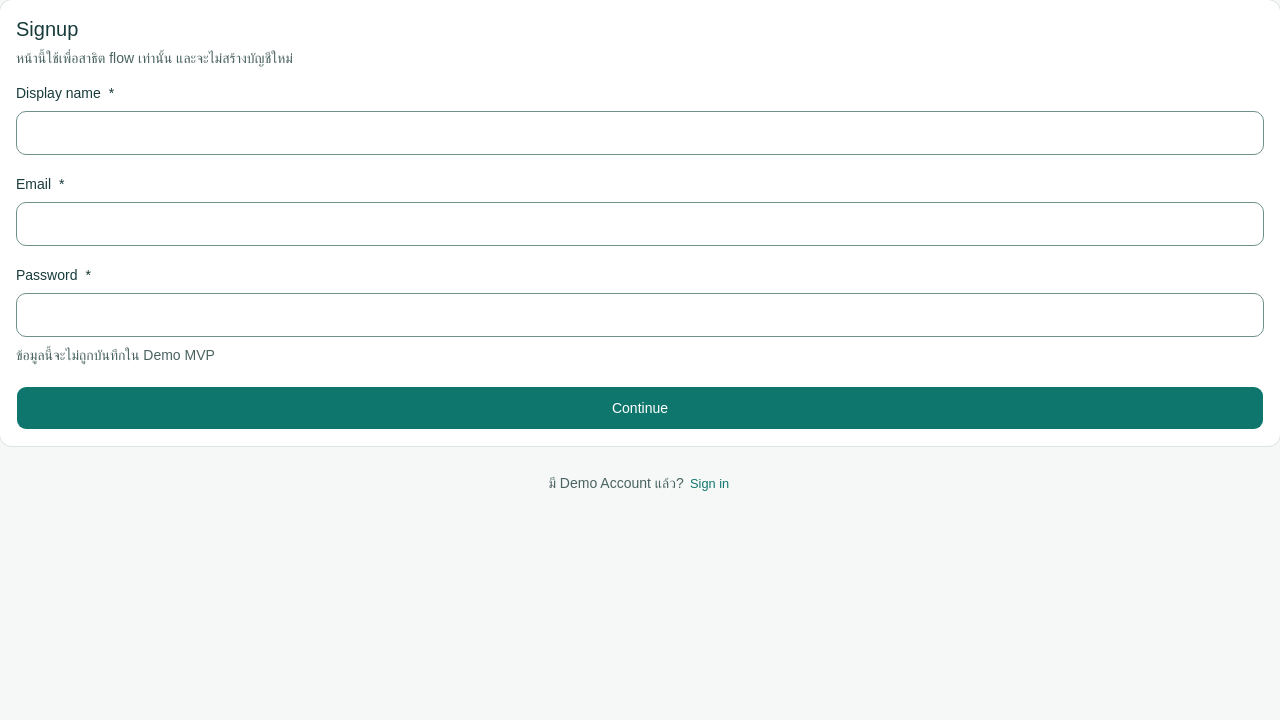
Test: public auth screens › keeps signup demo-only and displays the exact MVP notice
Type "Demo User" into the field labelled "Display name *" at coordinates (640, 133), box [16, 111, 1264, 155]
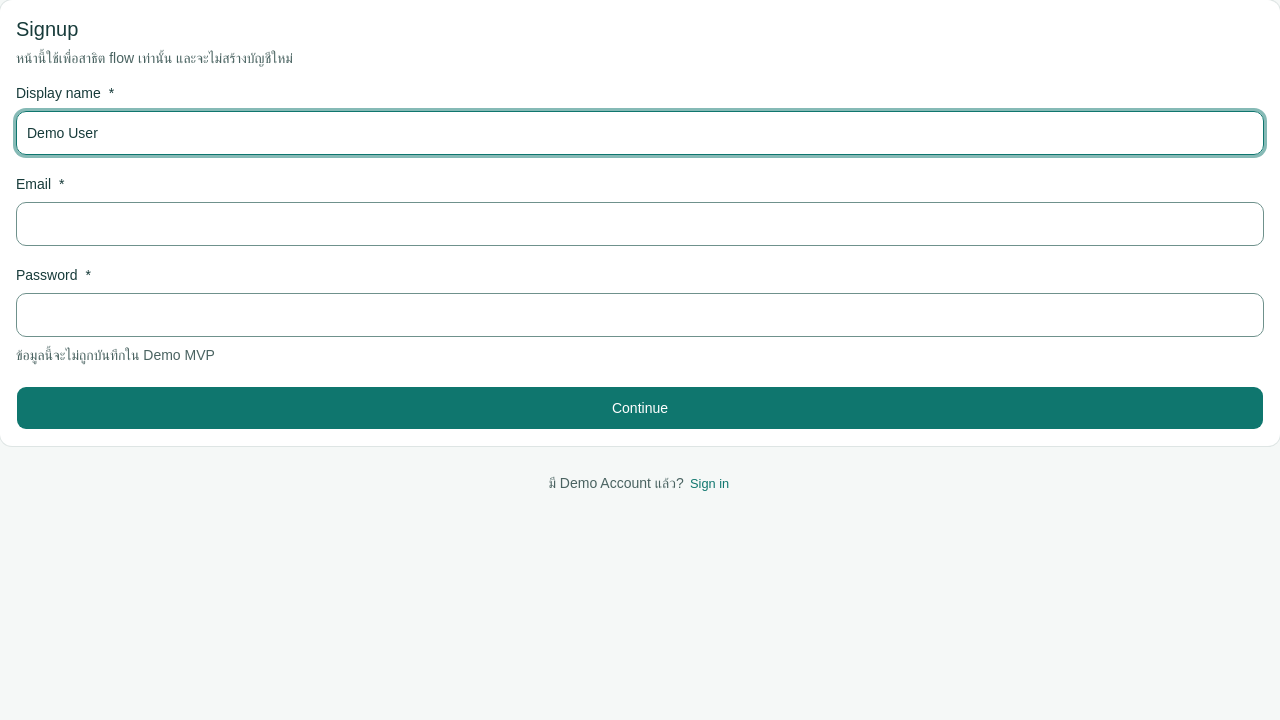
Type "new-user@cliniccloud.demo" into the field labelled "Email *" at coordinates (640, 224), box [16, 202, 1264, 246]
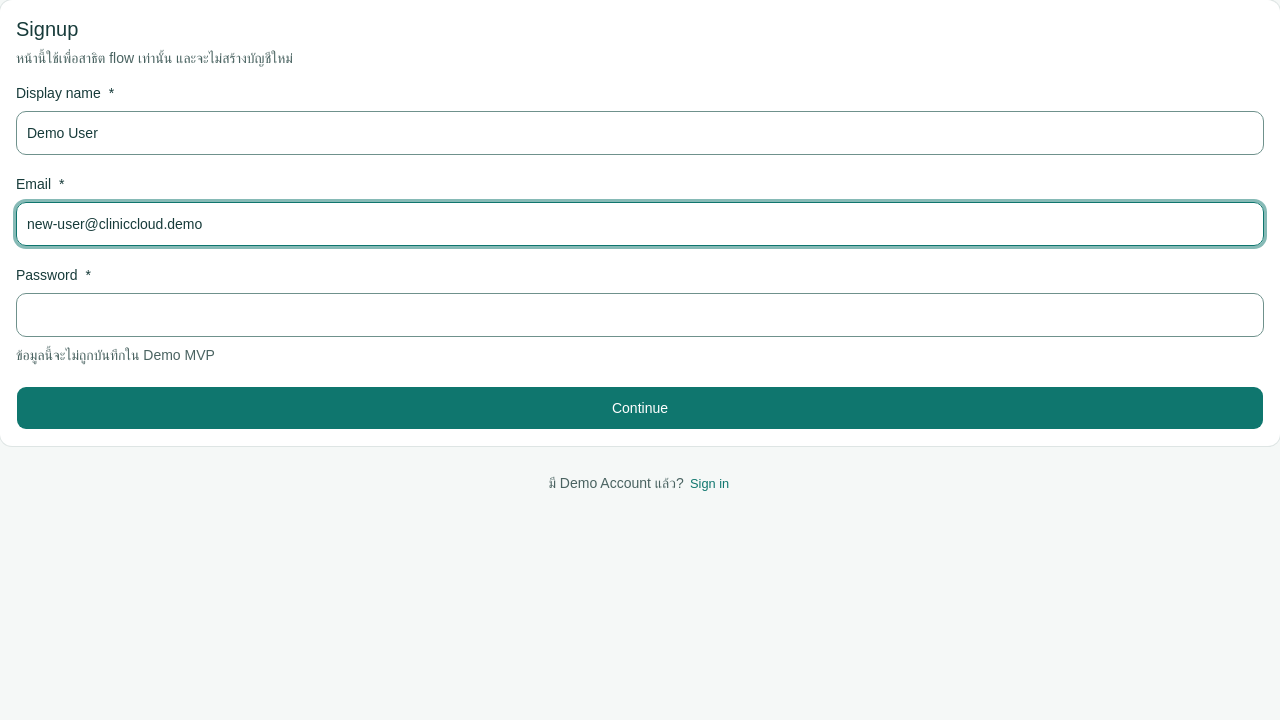
Type "example-password" into the password field labelled "Password *" at coordinates (640, 315), box [16, 293, 1264, 337]
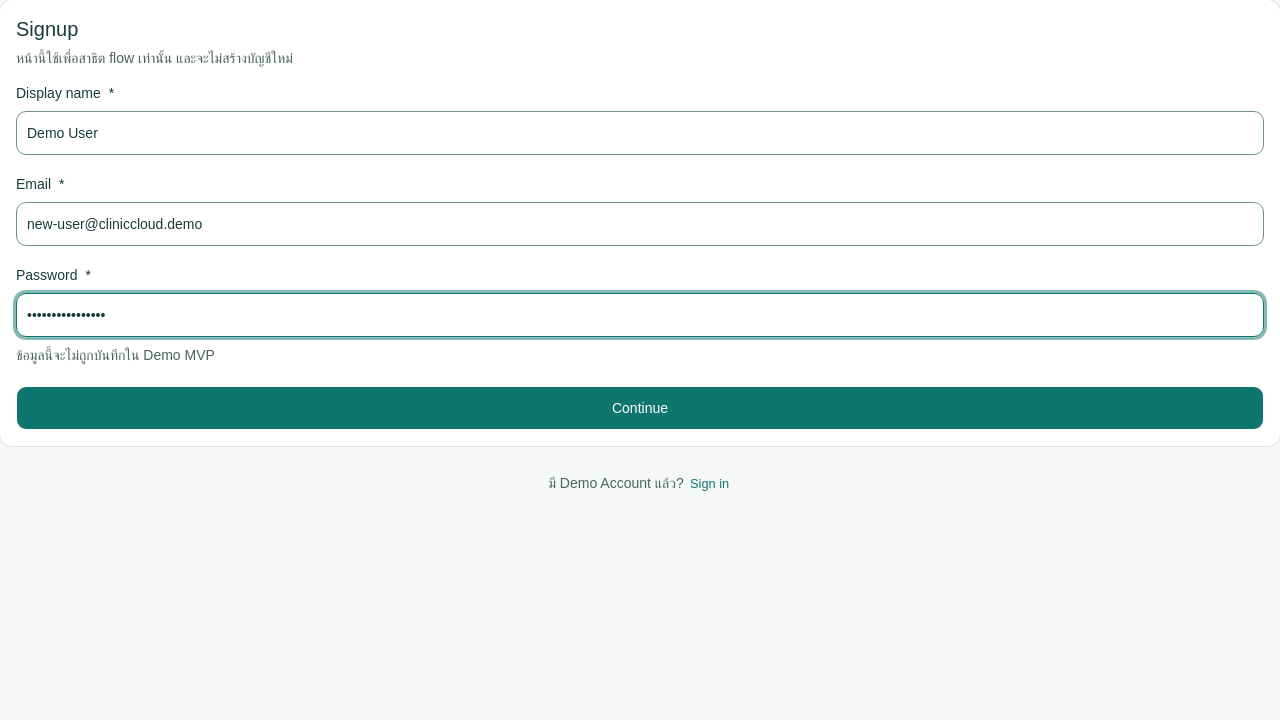
Click the button "Continue" at coordinates (640, 408), box [16, 386, 1264, 430]
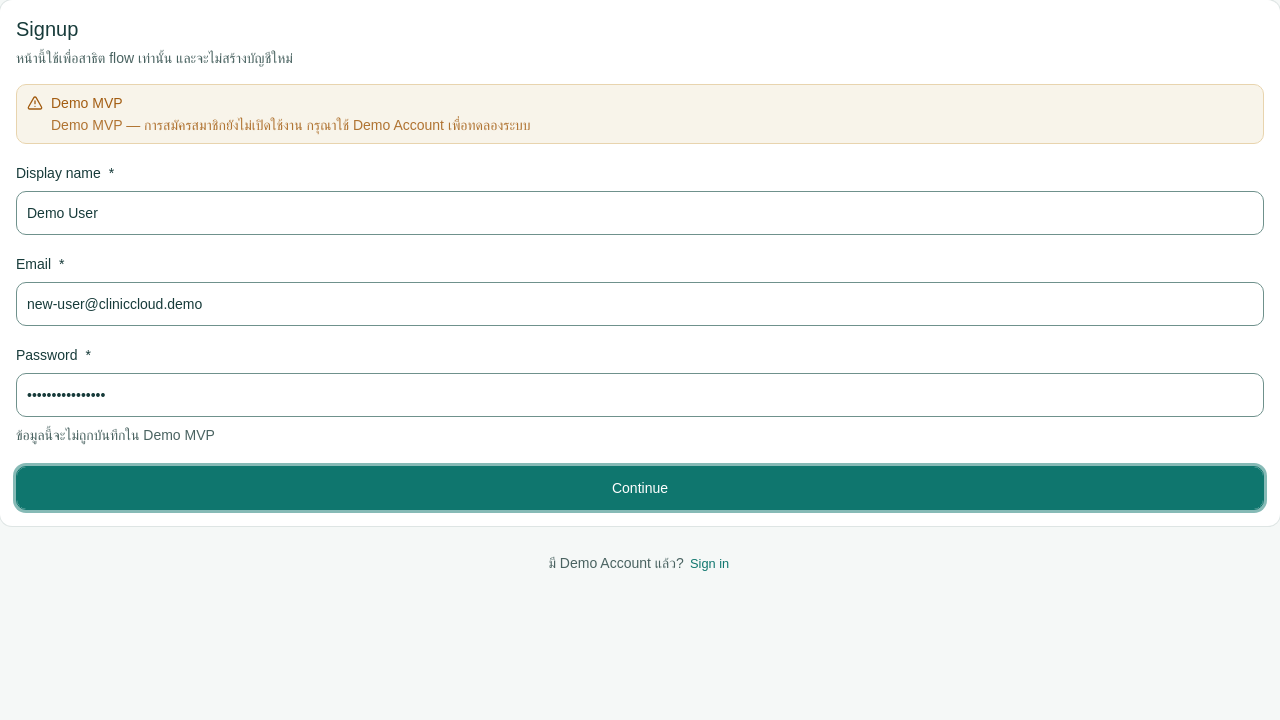
Result: the text "Demo MVP — การสมัครสมาชิกยังไม่เปิดใช้งาน กรุณาใช้ Demo Account เพื่อทดลองระบบ" is shown at [51, 116, 531, 132]
